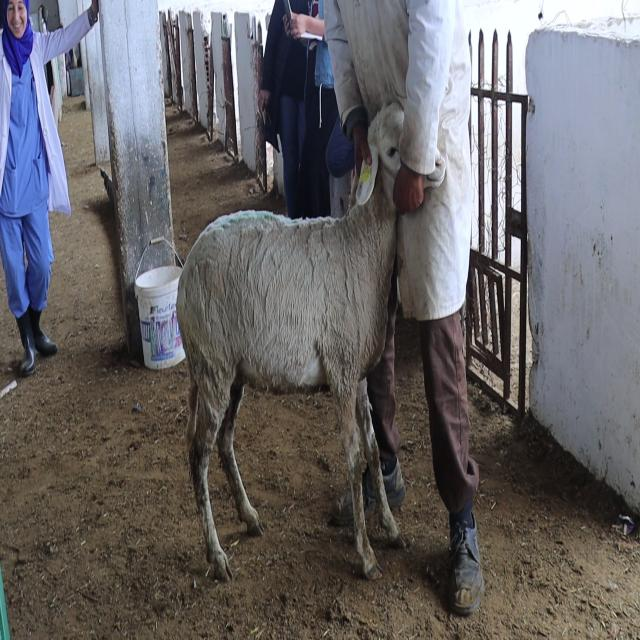Score_5: (177, 103, 404, 578)
